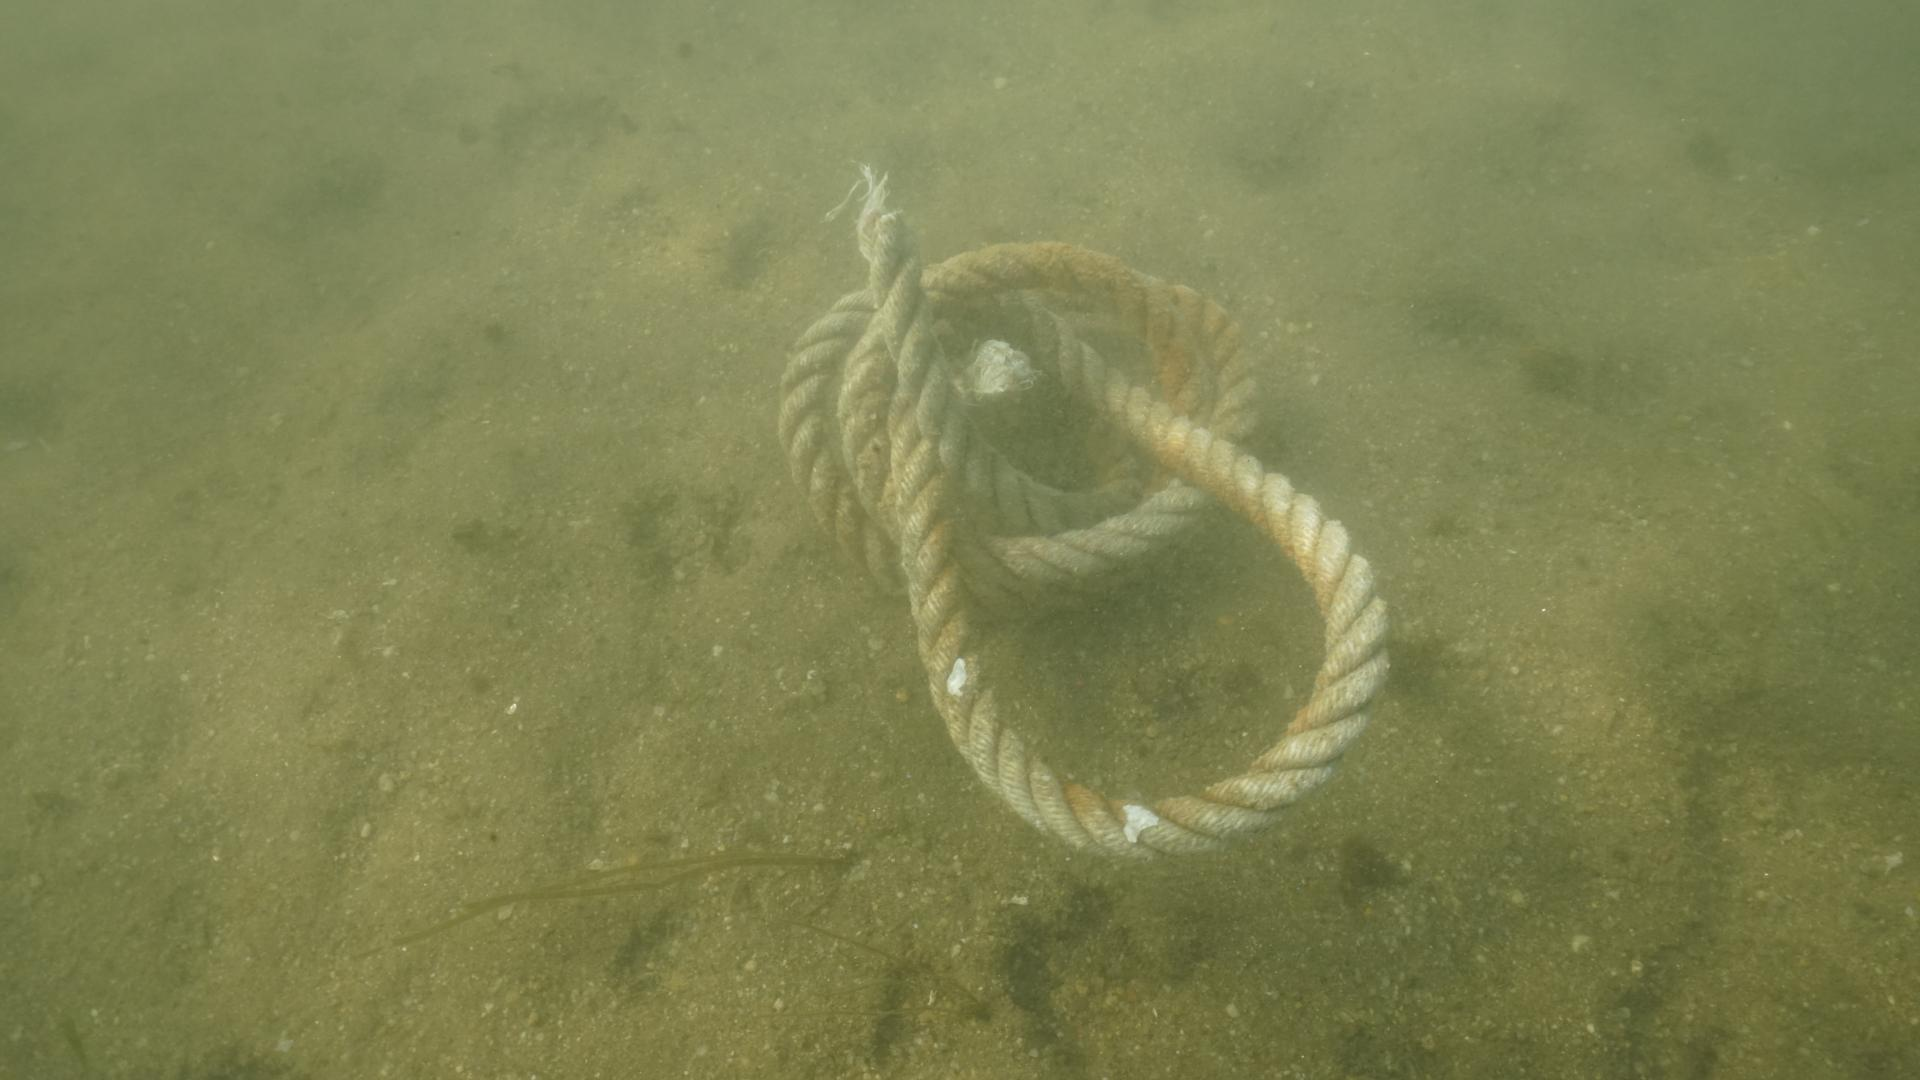bundle of ropes: (767, 207, 1396, 870)
